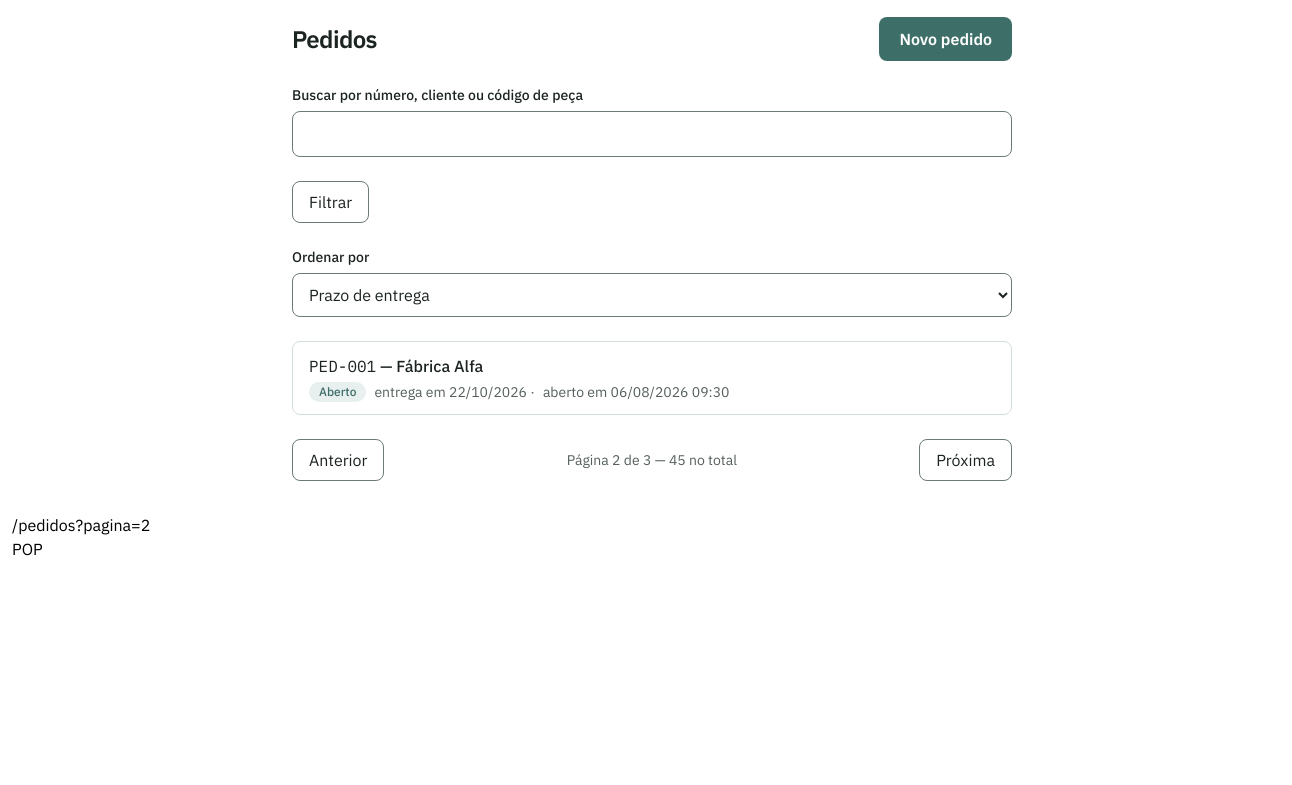
Test: PedidosPage › marcar um status no filtro consulta de novo na pagina 1 e escreve na URL
Expected: the text "PED-001" is shown, [309,356,376,376]
Click the button "Filtrar".
click(331, 202)  # box [292,181,369,223]
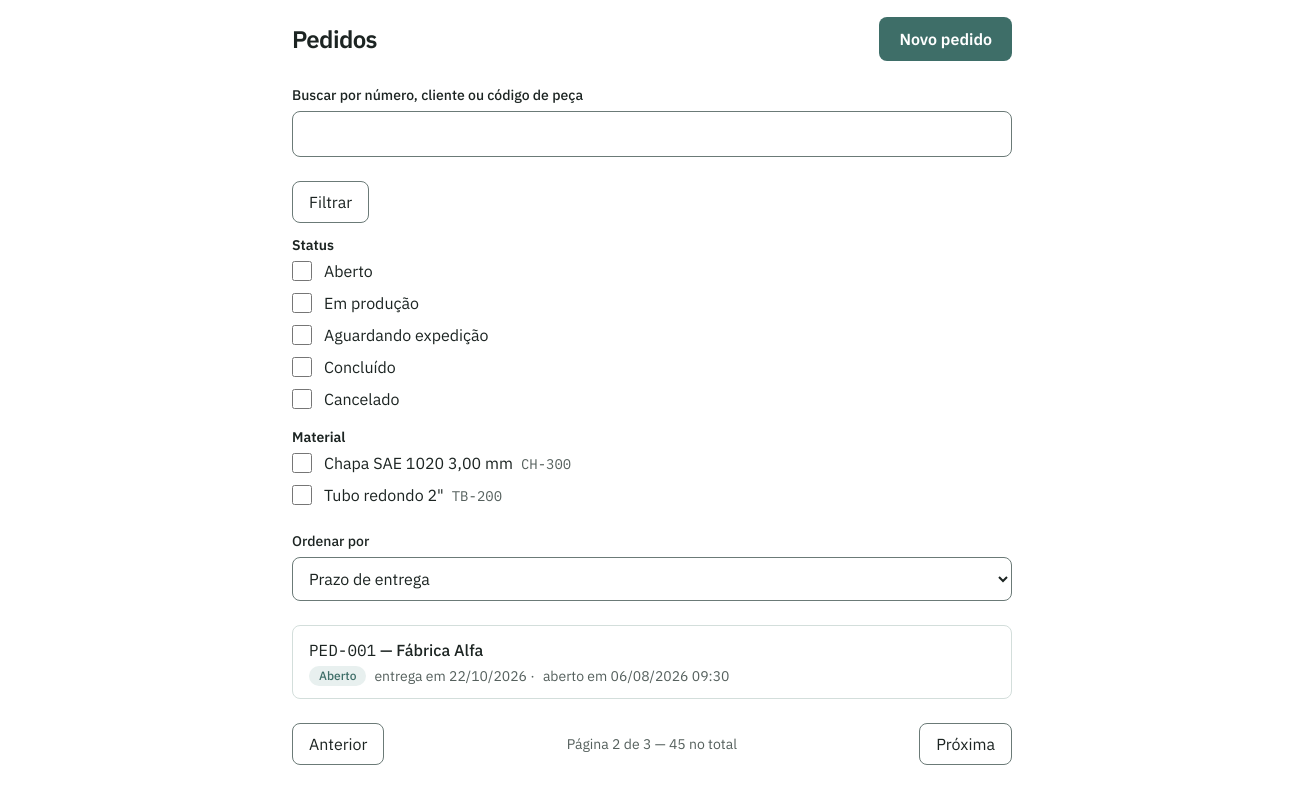
Click the checkbox labelled "Em produção".
click(302, 303)  # box [292,293,312,313]
(page scrolled)
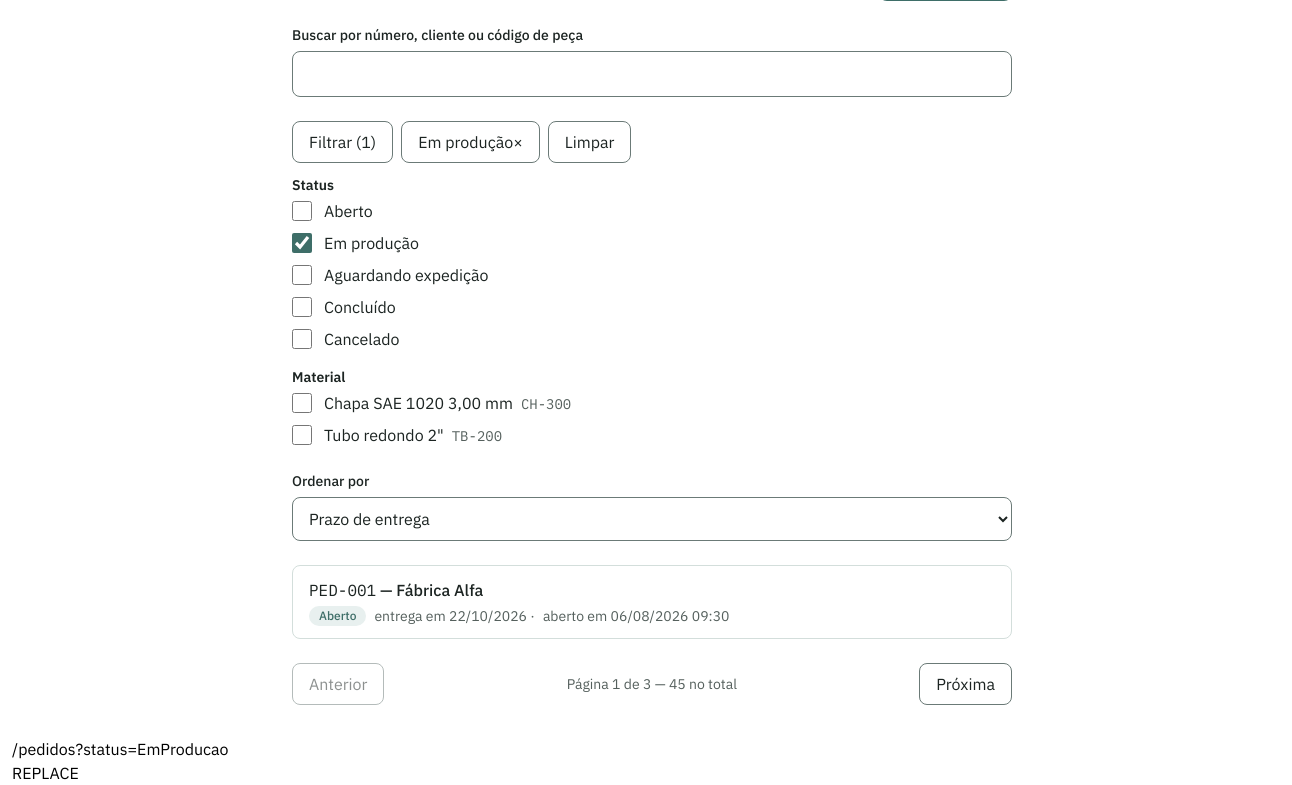
Expected: the text named "localizacao" reads "/pedidos?status=EmProducao", [12,739,229,759]
